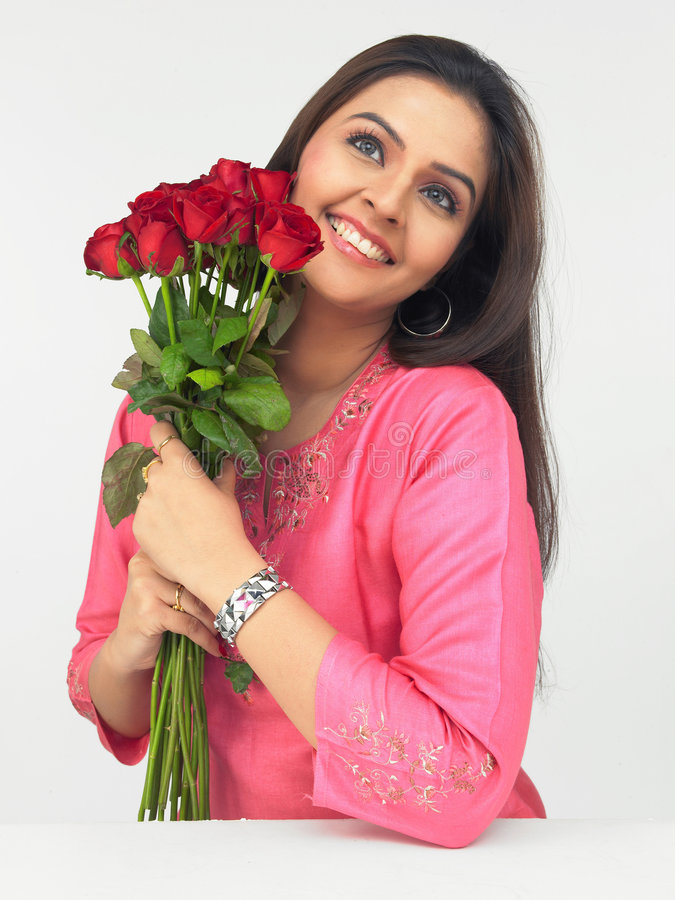RedRose: (246, 195, 324, 287), (133, 211, 206, 294), (169, 166, 245, 245), (77, 212, 158, 285)
